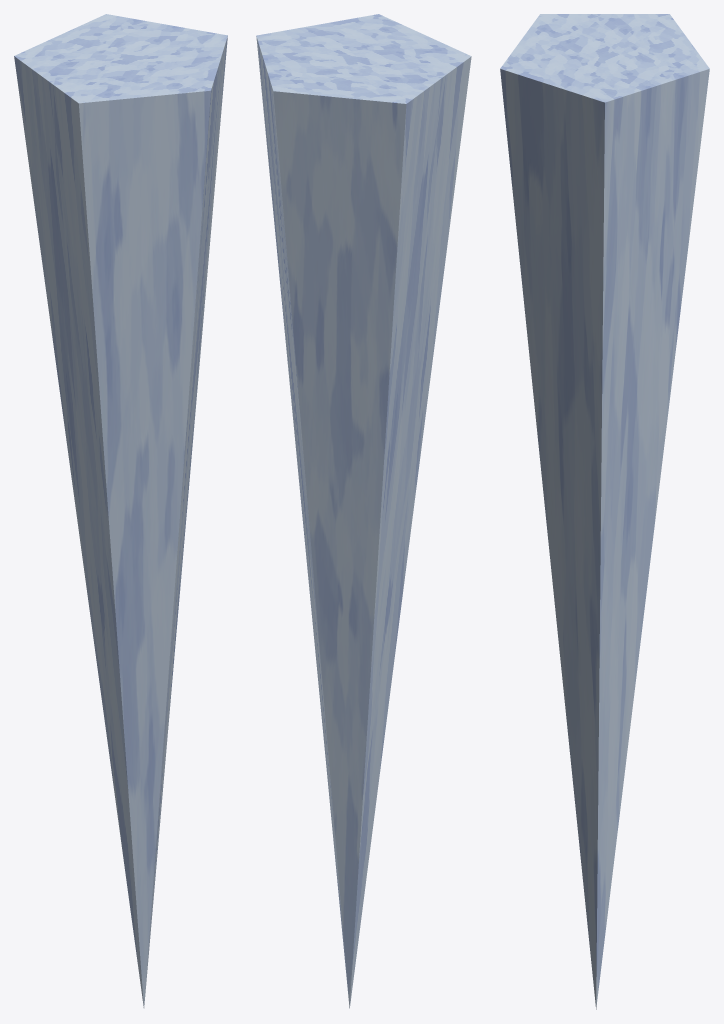
The model's file is icicle_long.glb.
3 views of the same model, side by side, from view 1: azimuth 30°, elevation 25°; view 2: azimuth 150°, elevation 25°; view 3: azimuth 270°, elevation 25° (orthographic).
Parts seen in each view (by area): view 1: winter_icicle_long; view 2: winter_icicle_long; view 3: winter_icicle_long.
Boxes of the visible parts, x1,y1,x2,y2 form: winter_icicle_long: [14, 14, 227, 1008]; winter_icicle_long: [256, 14, 471, 1008]; winter_icicle_long: [500, 14, 709, 1009].
Bounding box in the file's own units: 0.13 × 0.65 × 0.13.
1 material, 1 textured.
